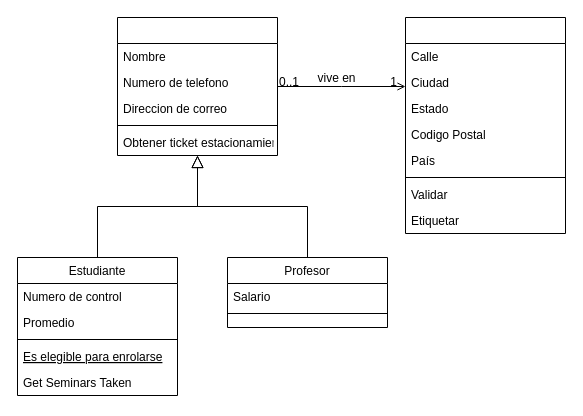
This 583x416 diagram has some shape labels left out. Each missing label, with the box of its shape:
Domicilio: (404, 16, 566, 234)
Persona: (116, 16, 278, 156)
